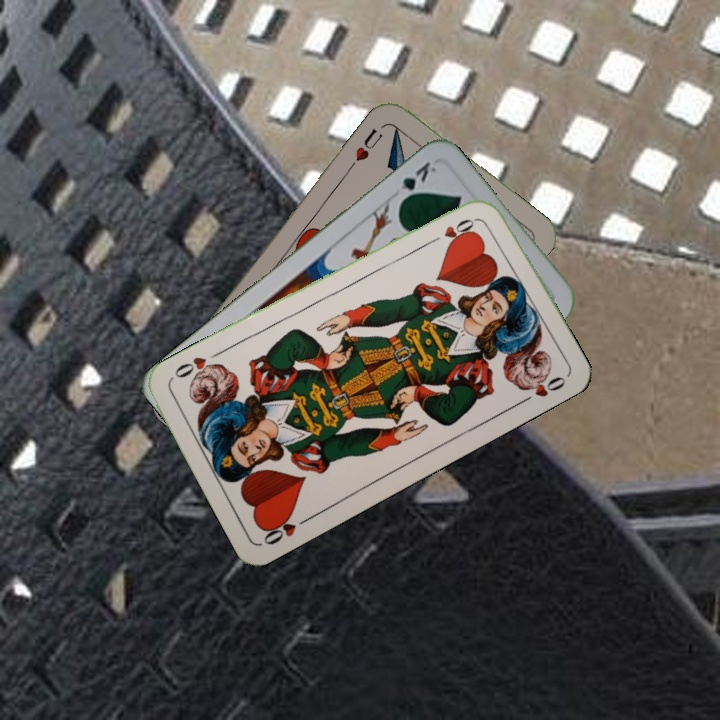GK: (394, 157, 439, 206)
HO: (258, 510, 313, 548), (425, 213, 480, 247)
HU: (346, 124, 386, 170)
